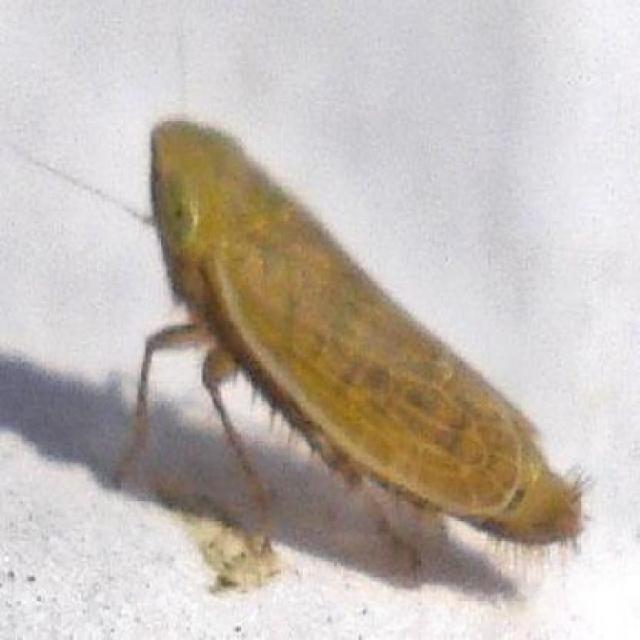green-leafhopper: (109, 114, 582, 572)
